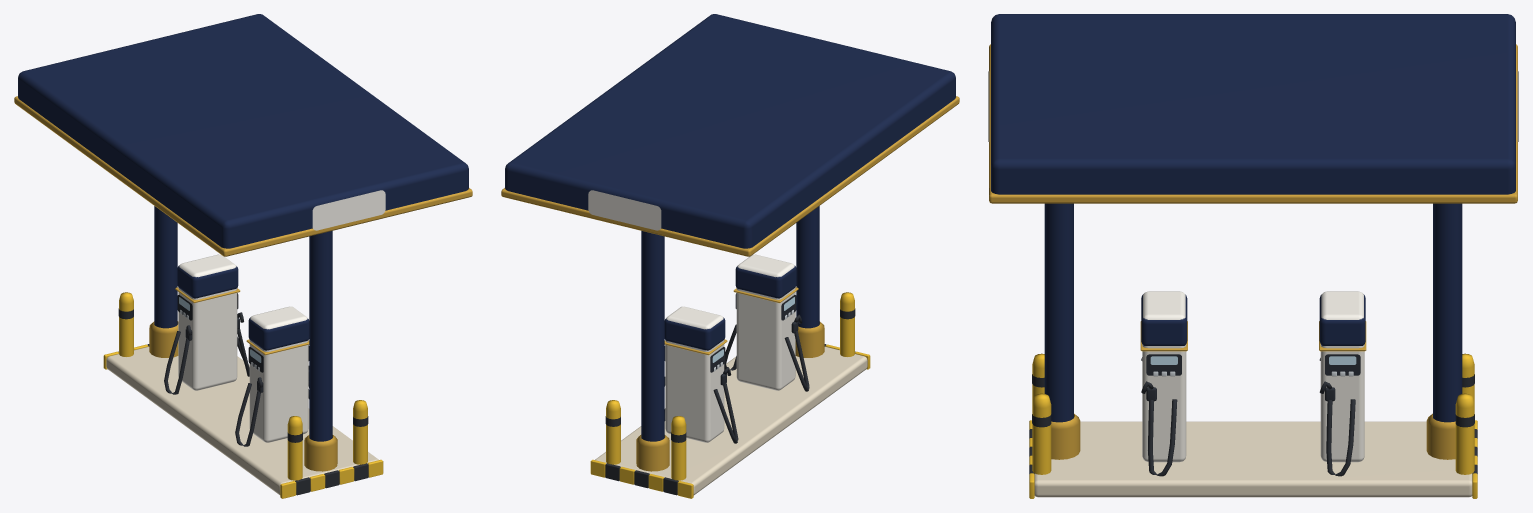
File: RedeFuelIsland.fbx
The picture shows the model from 3 angles, left to right: view 1: azimuth 30°, elevation 25°; view 2: azimuth 150°, elevation 25°; view 3: azimuth 270°, elevation 25°; orthographic projection. The views are drawn at different scales.
Parts seen in each view (by area): view 1: RedeFuelIsland_Body.004; view 2: RedeFuelIsland_Body.004; view 3: RedeFuelIsland_Body.004.
Part boxes in pixels (x1,y1,x2,y2): RedeFuelIsland_Body.004: [14, 14, 472, 498]; RedeFuelIsland_Body.004: [501, 14, 959, 498]; RedeFuelIsland_Body.004: [988, 14, 1518, 498].
Size of the model in its own units: 3.44 by 4.01 by 5.06.
